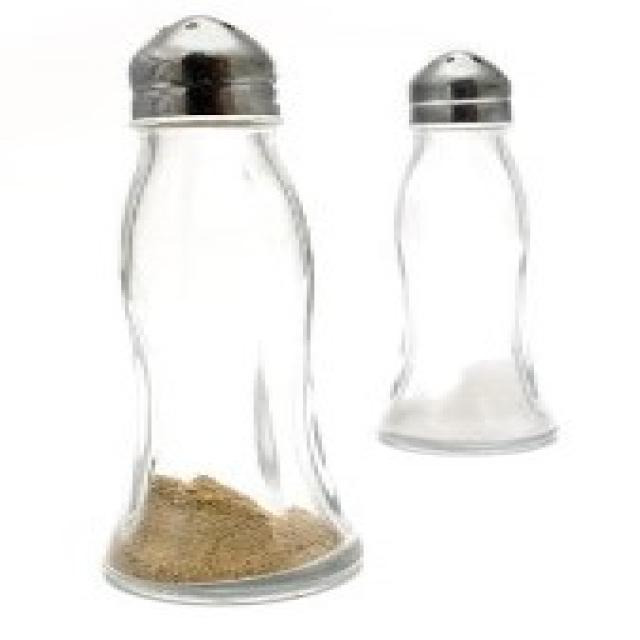electronic: (110, 8, 558, 612)
